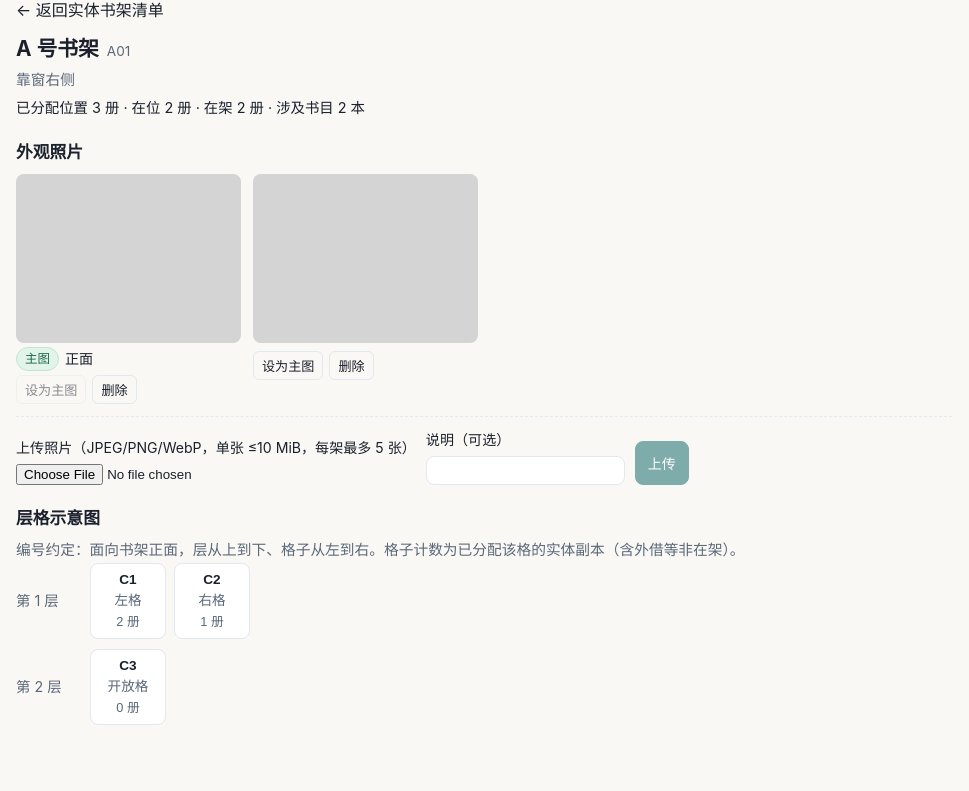
it: StorageShelfView › 点击格子展开副本清单（书名、状态、归属成员）
What coordinates should you click on to do the following:
click the button "C1 左格 2 册"
I would click on:
 (128, 601)
Its box is [90,563,166,639].
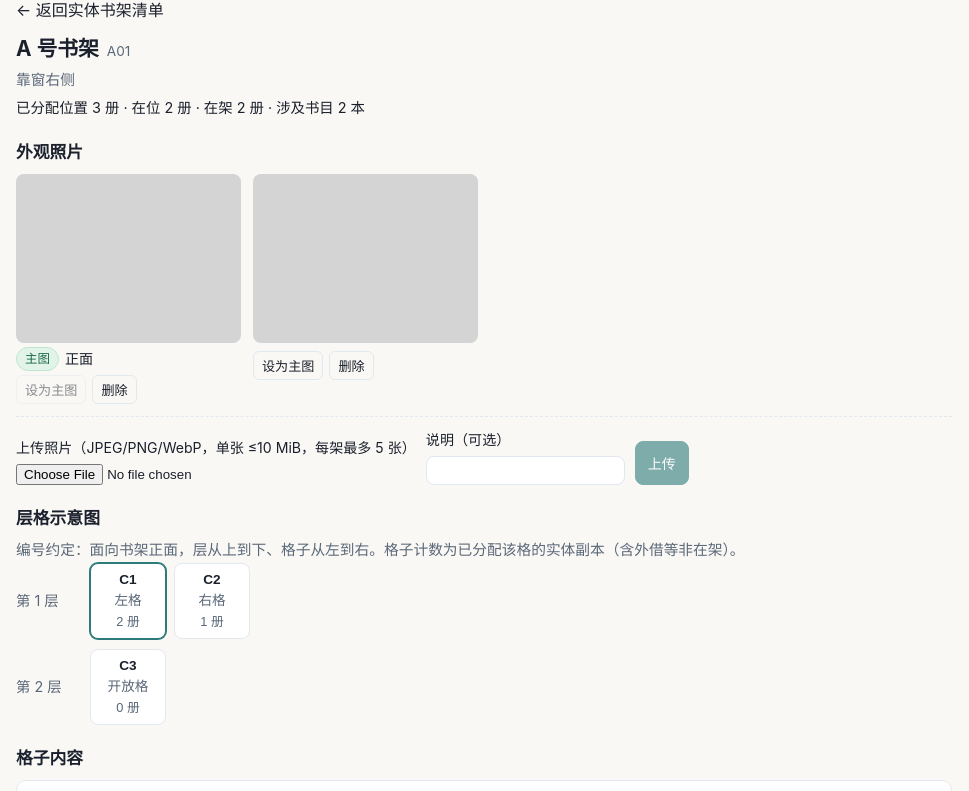
// 空格子有明确文案
What coordinates should you click on to do the following:
click the button "C3 开放格 0 册"
I would click on:
 (128, 687)
Its box is [90,649,166,725].
(page scrolled)
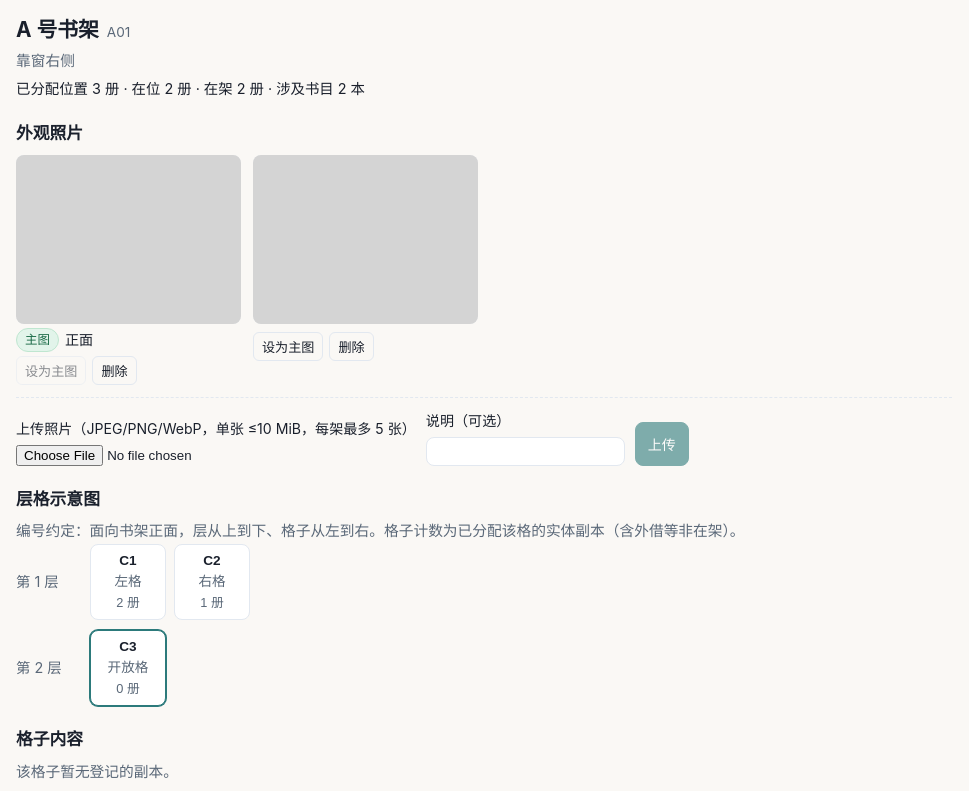
Expected: the element with class "cell-copies" shows "暂无登记的副本", [16,763,178,781]
